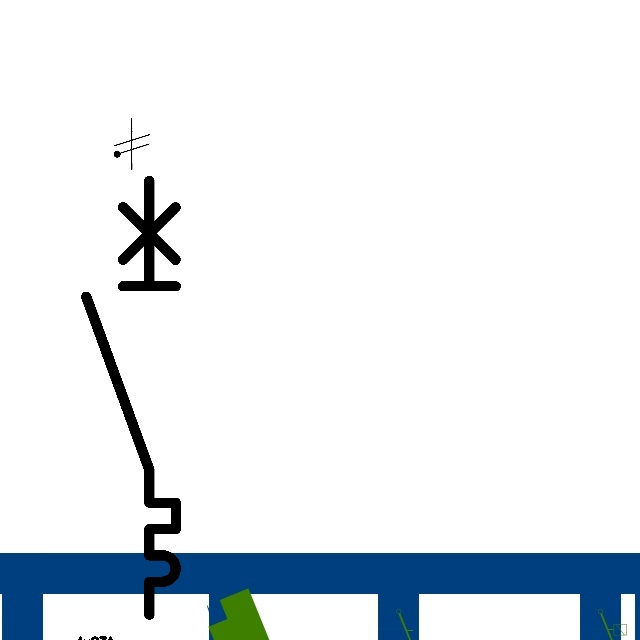interruptor_termomagnetico: (75, 169, 187, 625)
